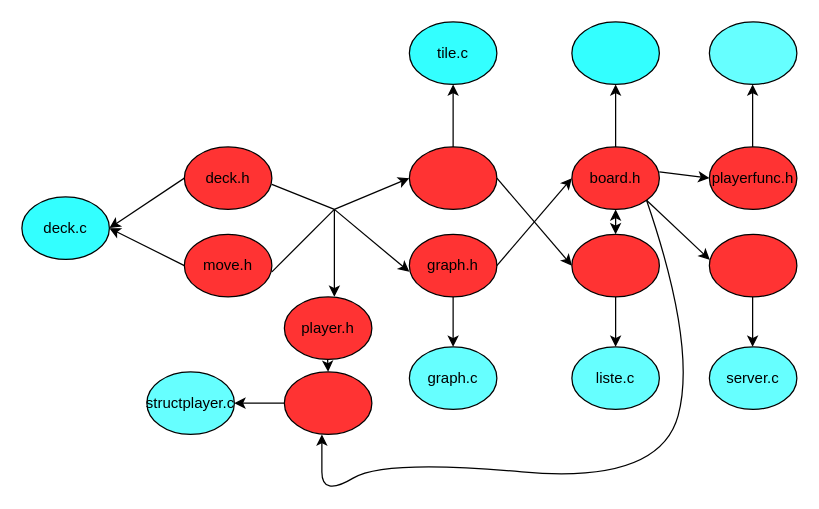
This 819x509 diagram has some shape labels left out. Here are the shapes that lost their labels. From the top down, the centre of each, then its label:
At (x=615, y=52): "board.c".
At (x=752, y=52): "playerfunc.c".
At (x=452, y=177): "tile.h".
At (x=615, y=265): "liste.h".
At (x=752, y=265): "server.h".
At (x=327, y=402): "structplayer.h".
